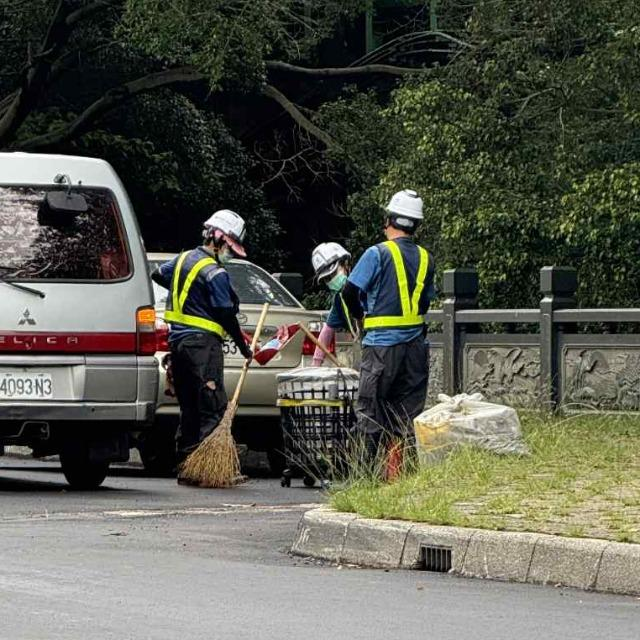Vest: (359, 240, 442, 337), (166, 249, 236, 342)
